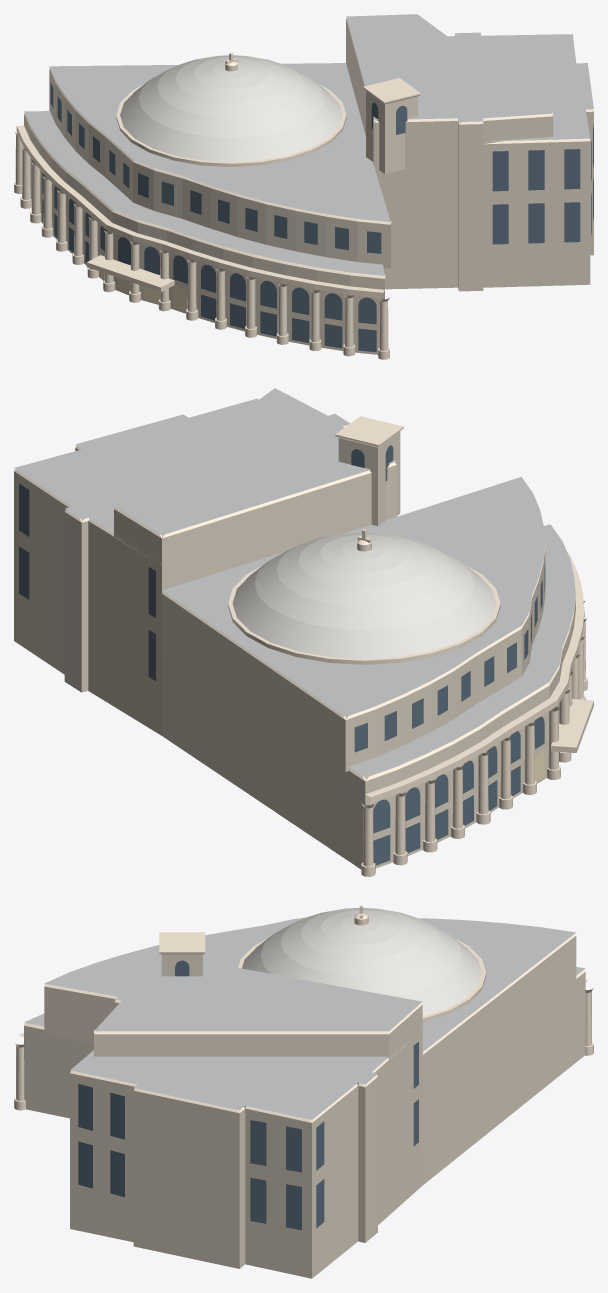
Rendered from la-angelus-temple.glb.
3 renders of one model, top to bottom at view 1: azimuth 30°, elevation 25°; view 2: azimuth 150°, elevation 25°; view 3: azimuth 270°, elevation 25°, orthographic. The views are drawn at different scales.
Parts seen in each view (by area): view 1: Angelus Temple; view 2: Angelus Temple; view 3: Angelus Temple.
Part boxes in pixels (<box>): Angelus Temple: <box>14,14,593,359</box>; Angelus Temple: <box>14,388,593,876</box>; Angelus Temple: <box>14,905,593,1278</box>.
Bounding box in the file's own units: 75.72 × 29 × 72.88.
